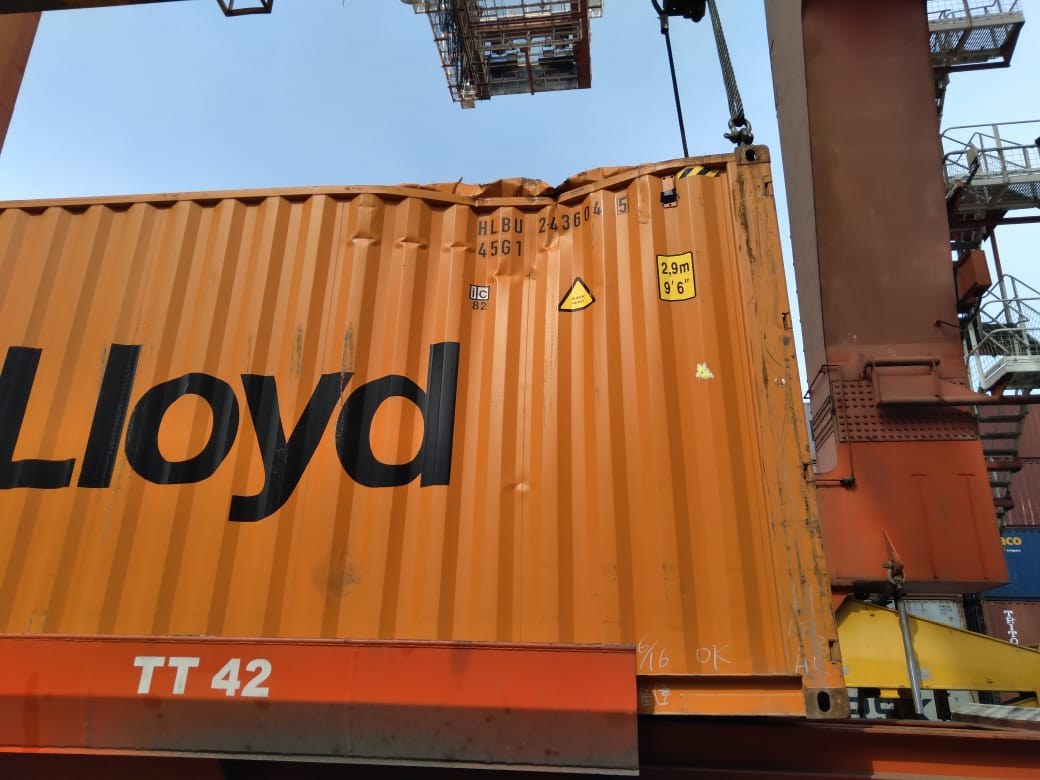moderate: (364, 189, 645, 293)
